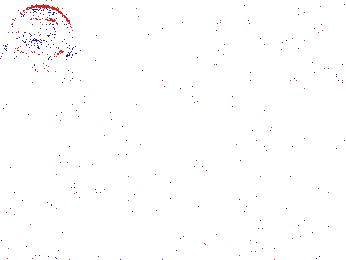moon jellyfish: (12, 47, 86, 122), (215, 13, 276, 94), (288, 1, 346, 85), (4, 6, 76, 59)
